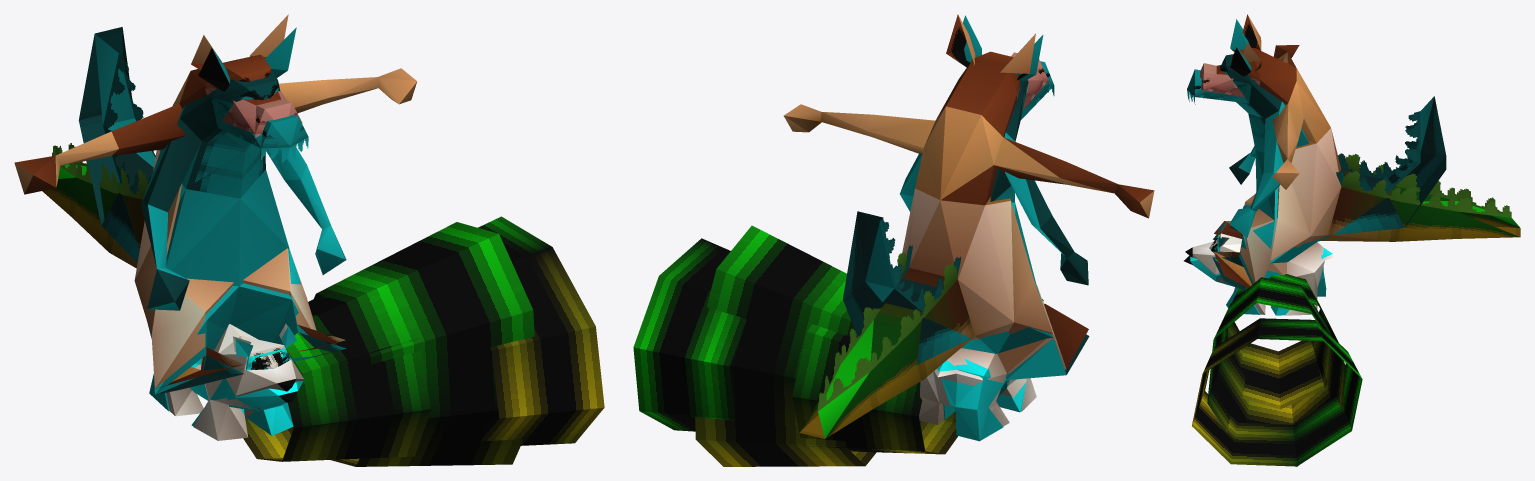
3 renders of one model, left to right at view 1: azimuth 30°, elevation 25°; view 2: azimuth 150°, elevation 25°; view 3: azimuth 270°, elevation 25°, orthographic. The views are drawn at different scales.
Parts seen in each view (by area): view 1: part1, part2, part0; view 2: part0, part1, part2; view 3: part0, part1, part2.
Boxes of the visible parts, box(x1,y1,x2,y2) form: part1: box(243, 216, 604, 466); part2: box(78, 27, 346, 435); part0: box(14, 14, 417, 440); part0: box(783, 14, 1154, 438); part1: box(633, 225, 957, 466); part2: box(843, 15, 1089, 441); part0: box(1185, 14, 1520, 315); part1: box(1192, 274, 1362, 466); part2: box(1184, 19, 1446, 315).
Bounding box in the file's own units: 1.03 × 1 × 0.8691.
Materials: 19 (18 with a texture image).
